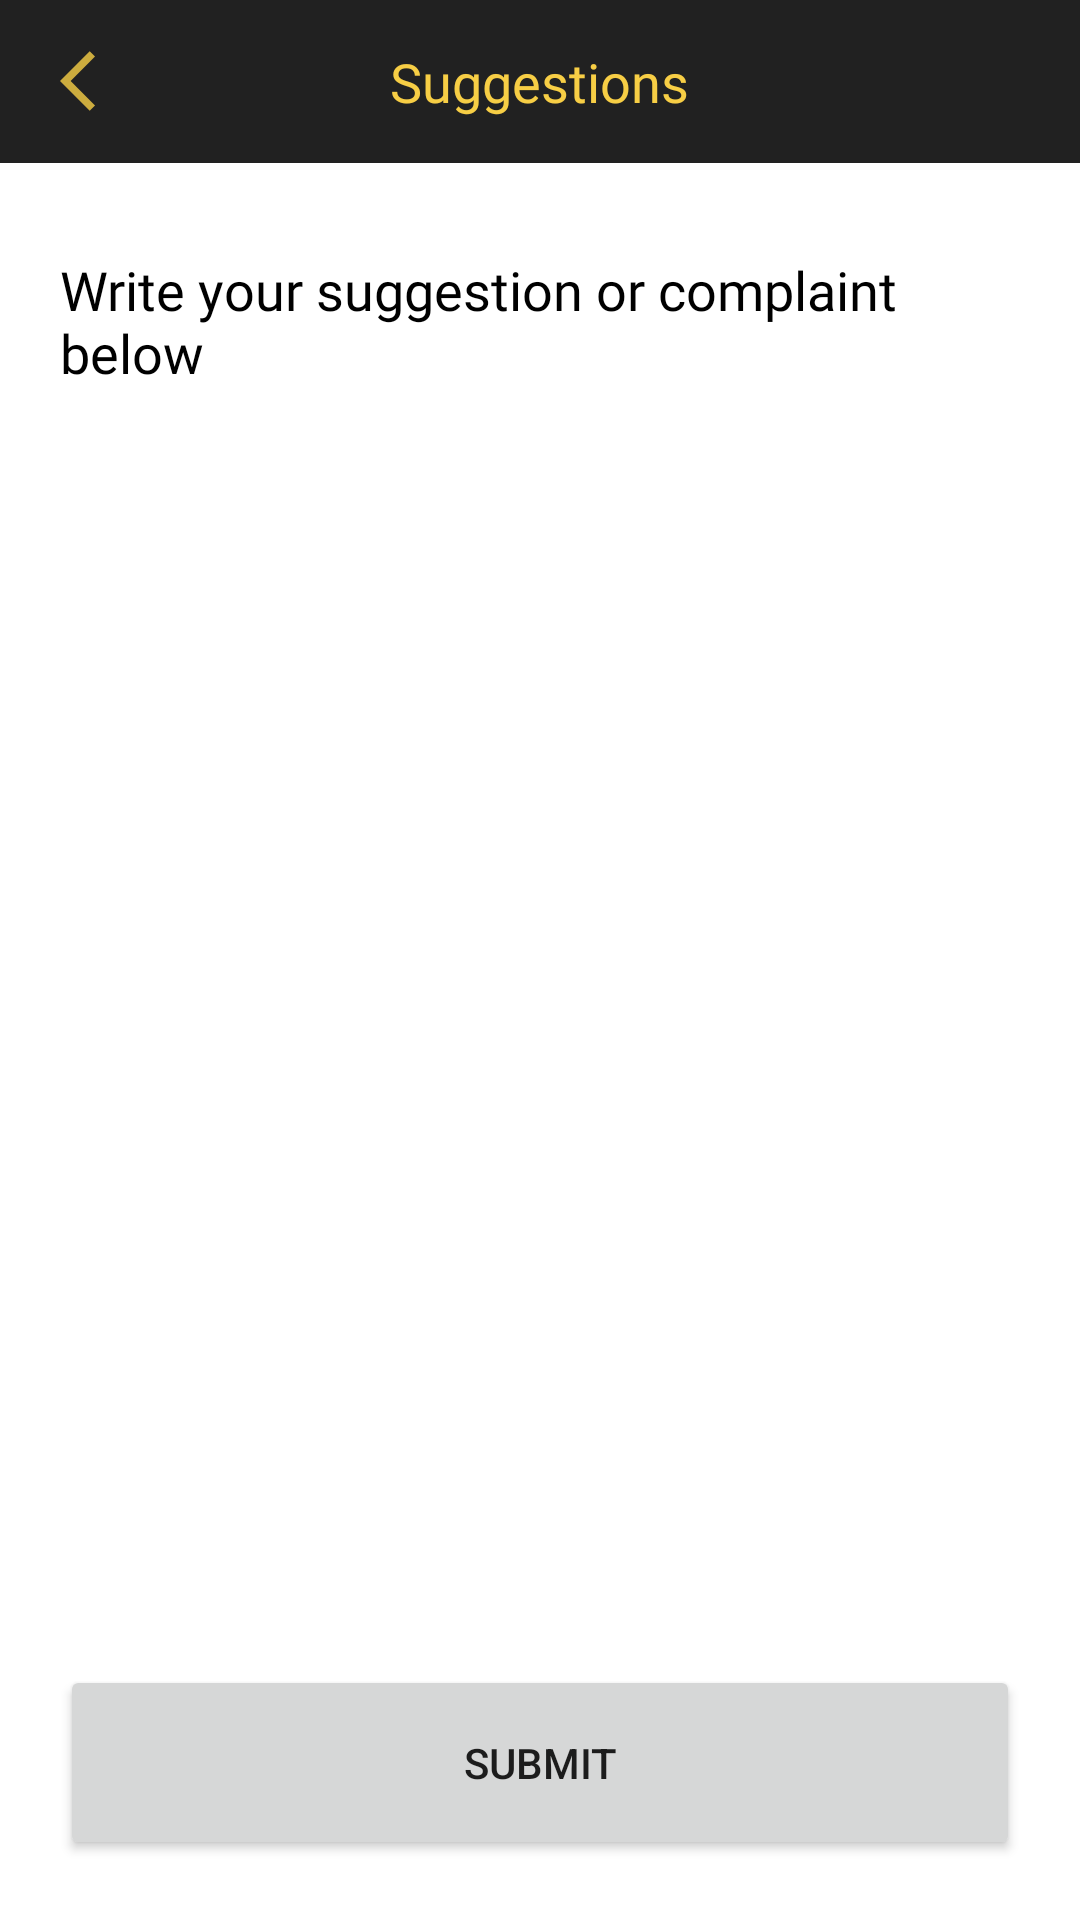

Locate icon controls on the screen. Image size 1080 × 1920, boxes as [x1,y1,x2,y2].
back icon: [60,51,95,111]
